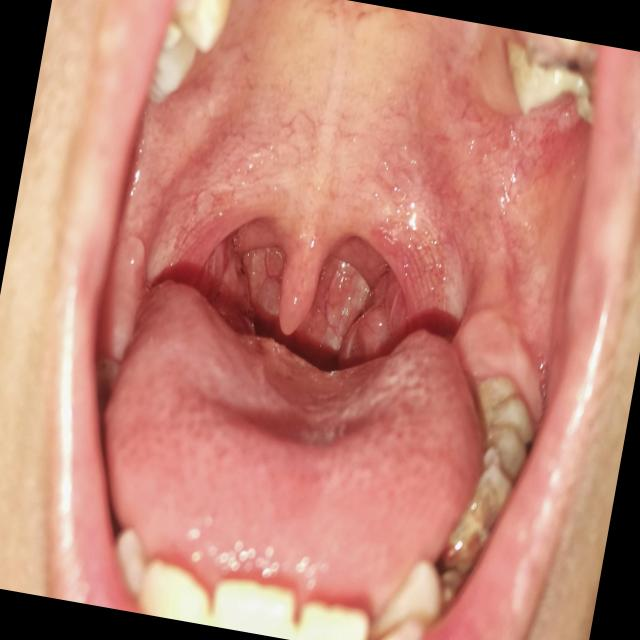Tooth: (507, 41, 593, 122), (371, 562, 440, 637), (214, 582, 295, 639), (139, 562, 207, 624), (172, 0, 232, 50), (297, 603, 367, 640)
